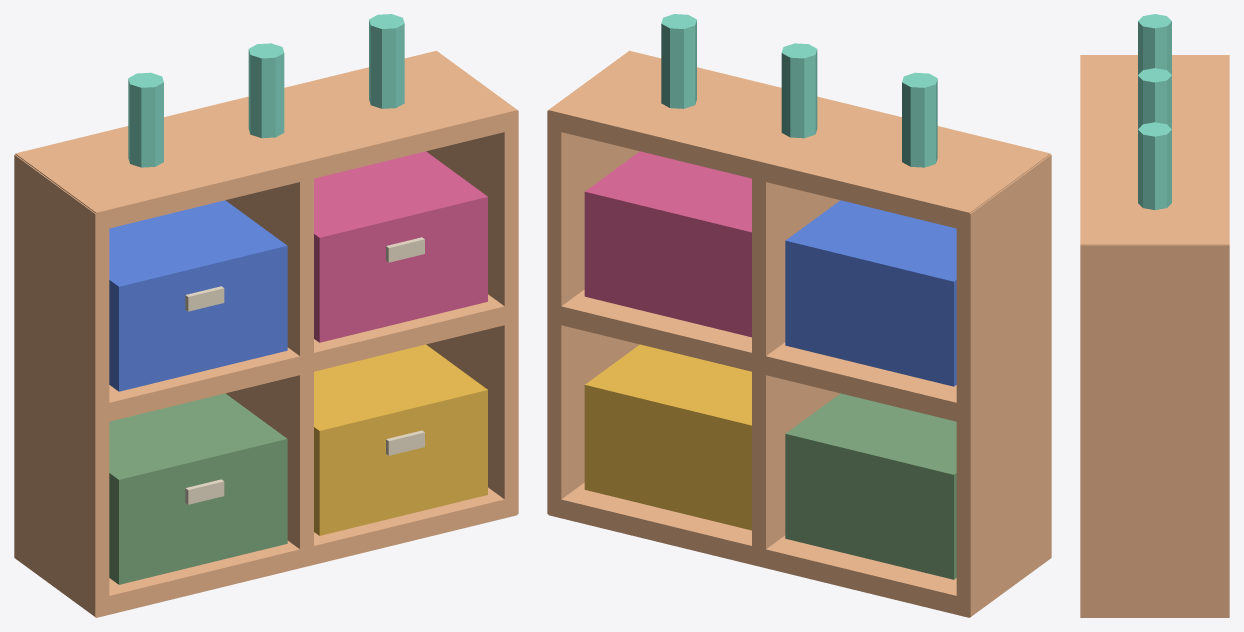
3 renders of one model, left to right at view 1: azimuth 30°, elevation 25°; view 2: azimuth 150°, elevation 25°; view 3: azimuth 270°, elevation 25°, orthographic. The views are drawn at different scales.
Parts seen in each view (by area): view 1: Cubbies divider, Cubbies shelf.002, Storage bin, Storage bin.002, Storage bin.001, Storage bin.003, Cubbies divider.002, Cubbies divider.001, Cubbies shelf.001, Cubbies shelf, Bottle on gym rack.001, Bottle on gym rack.002 (+5 smaller); view 2: Cubbies divider, Cubbies shelf.002, Storage bin, Storage bin.002, Storage bin.001, Storage bin.003, Cubbies divider.002, Cubbies divider.001, Cubbies shelf, Cubbies shelf.001, Bottle on gym rack.001, Bottle on gym rack.002 (+1 smaller); view 3: Cubbies divider.002, Cubbies shelf.002, Bottle on gym rack.002, Bottle on gym rack.001, Bottle on gym rack.
Boxes of the visible parts, x1,y1,x2,y2 form: Cubbies divider: (14, 154, 109, 616); Cubbies shelf.002: (15, 50, 517, 231); Storage bin: (109, 393, 287, 584); Storage bin.002: (109, 200, 287, 391); Storage bin.001: (314, 344, 487, 535); Storage bin.003: (314, 151, 487, 342); Cubbies divider.002: (426, 110, 518, 516); Cubbies divider.001: (225, 178, 313, 566); Cubbies shelf.001: (96, 294, 517, 424); Cubbies shelf: (95, 487, 517, 617); Bottle on gym rack.001: (248, 43, 284, 138); Bottle on gym rack.002: (369, 14, 404, 108); Cubbies divider: (956, 154, 1051, 616); Cubbies shelf.002: (548, 50, 1050, 228); Storage bin: (785, 393, 956, 579); Storage bin.002: (785, 200, 956, 386); Storage bin.001: (584, 344, 751, 530); Storage bin.003: (584, 151, 751, 337); Cubbies divider.002: (547, 110, 639, 513); Cubbies divider.001: (752, 161, 840, 549); Cubbies shelf: (548, 482, 970, 617); Cubbies shelf.001: (550, 289, 963, 421); Bottle on gym rack.001: (781, 43, 817, 138); Bottle on gym rack.002: (661, 14, 696, 108); Cubbies divider.002: (1080, 245, 1229, 617); Cubbies shelf.002: (1080, 55, 1229, 245); Bottle on gym rack.002: (1138, 122, 1171, 209); Bottle on gym rack.001: (1138, 68, 1171, 128); Bottle on gym rack: (1138, 14, 1171, 74).
Bounding box in the file's own units: 106 × 116 × 35.
